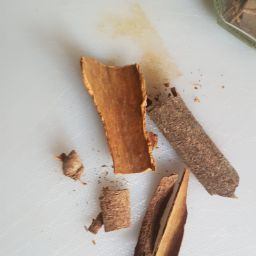Cinemon stick: (70, 48, 168, 192), (136, 72, 248, 197), (47, 144, 138, 236), (130, 177, 193, 256), (157, 153, 199, 256)
